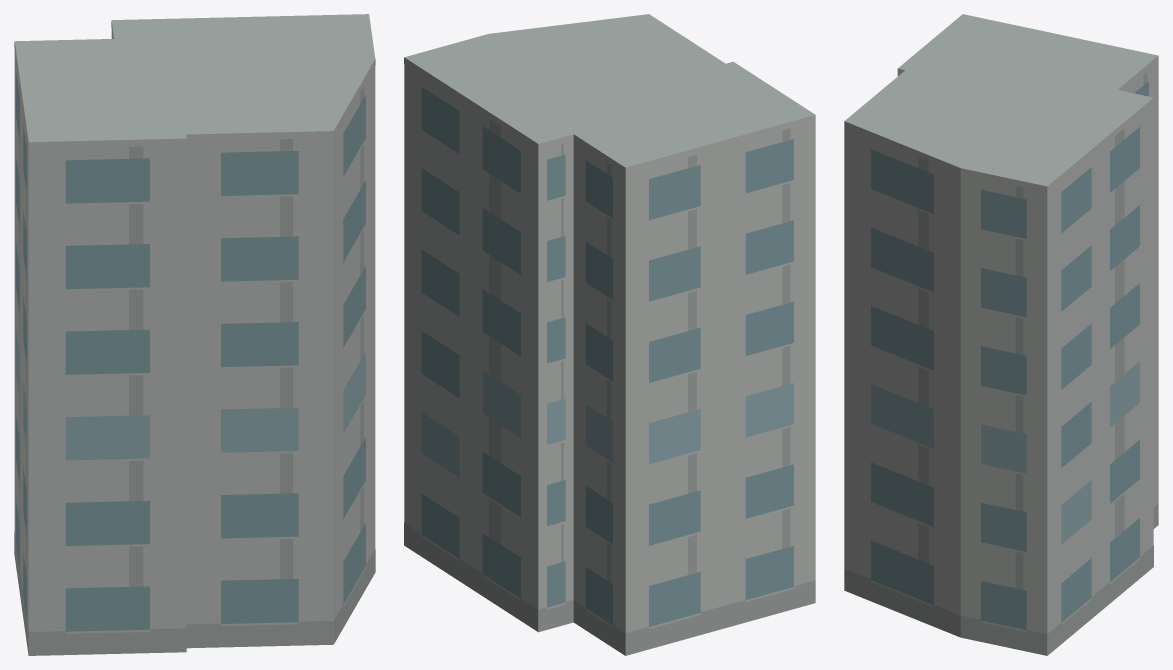
The model's file is survey-upis-33044954.glb.
3 views of the same model, side by side, from view 1: azimuth 30°, elevation 25°; view 2: azimuth 150°, elevation 25°; view 3: azimuth 270°, elevation 25° (orthographic). The views are drawn at different scales.
Visible parts, largest first — view 1: survey-upis-33044954.tmp; view 2: survey-upis-33044954.tmp; view 3: survey-upis-33044954.tmp.
Part boxes in pixels (x1,y1,x2,y2): survey-upis-33044954.tmp: [14, 14, 375, 655]; survey-upis-33044954.tmp: [404, 14, 815, 655]; survey-upis-33044954.tmp: [844, 14, 1158, 655].
Bounding box in the file's own units: 14.11 × 17.9 × 10.87.
